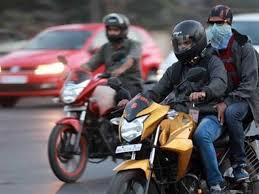helmet: (165, 18, 208, 66), (100, 11, 137, 46)
